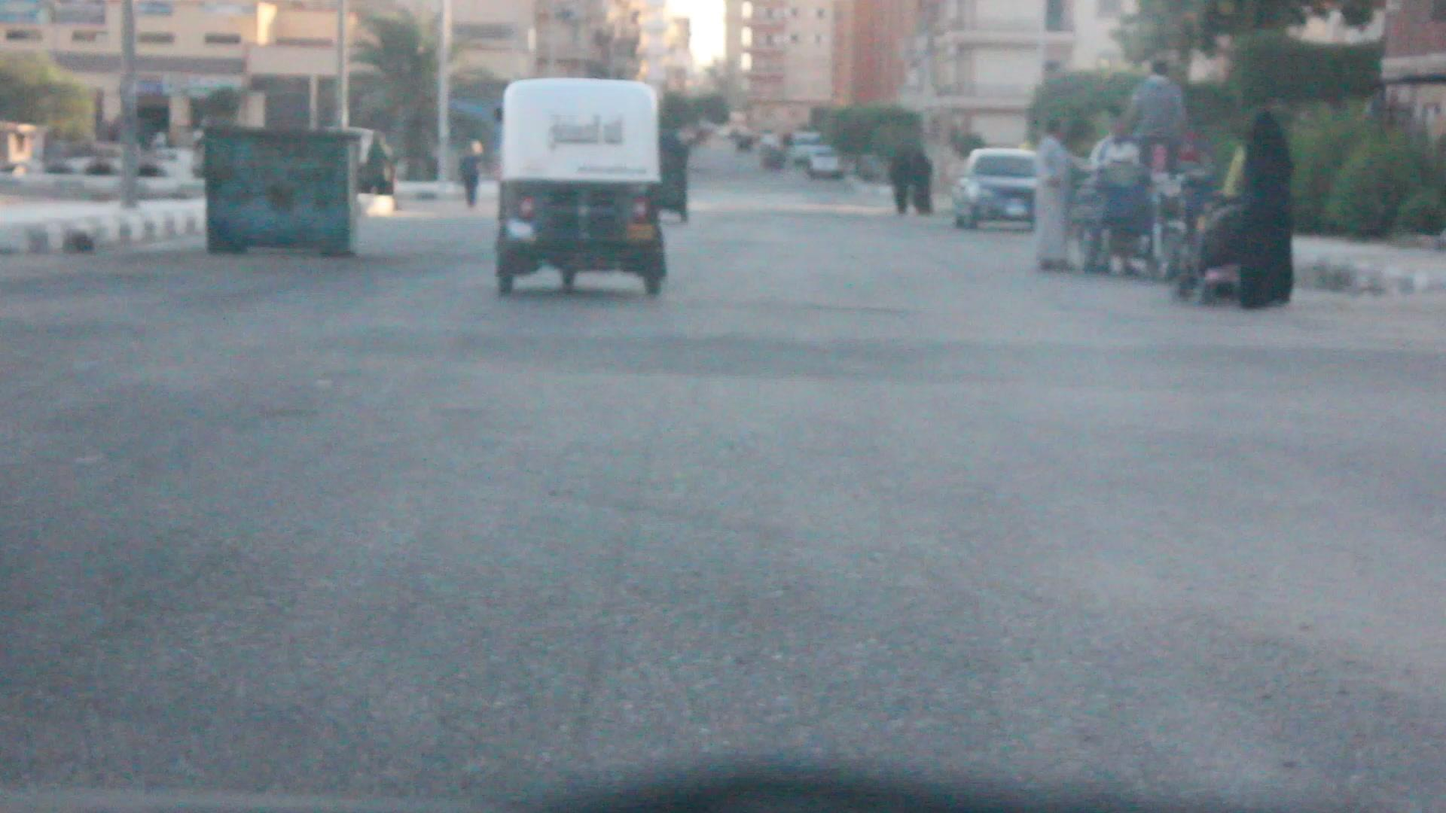Bump: (6, 286, 1446, 406)
